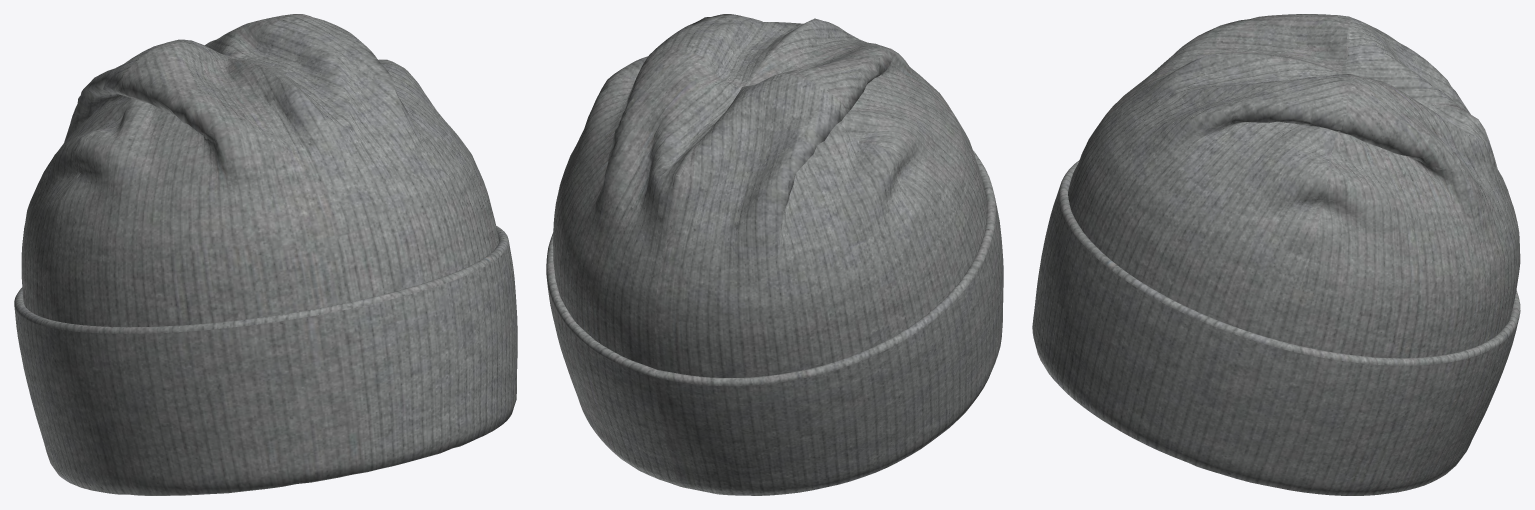
The model's file is gorro-gris-canale.glb.
3 views of the same model, side by side, from view 1: azimuth 30°, elevation 25°; view 2: azimuth 150°, elevation 25°; view 3: azimuth 270°, elevation 25° (orthographic). The views are drawn at different scales.
Visible parts, largest first — view 1: Object_6; view 2: Object_6; view 3: Object_6.
Part boxes in pixels (box(x1,y1,x2,y2)): Object_6: box(14, 14, 517, 495); Object_6: box(546, 14, 1003, 495); Object_6: box(1032, 14, 1520, 495).
Size of the model in its own units: 0.2 by 0.1898 by 0.2125.
Materials: 1 (1 with a texture image).
